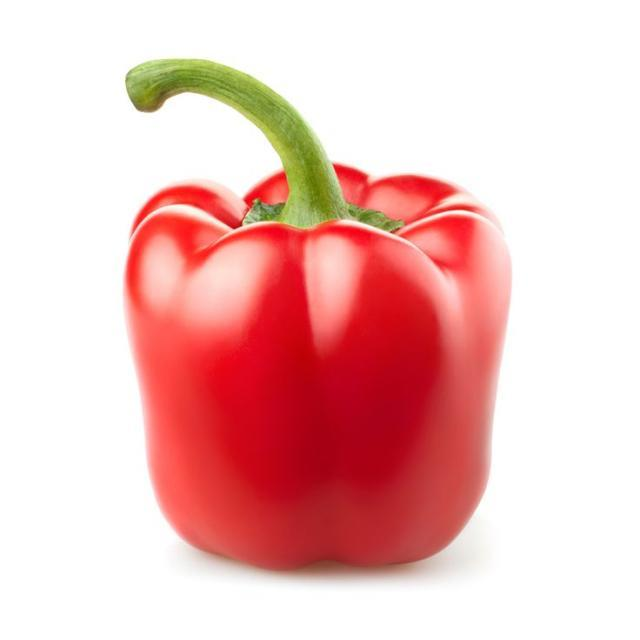bell_pepper: (125, 57, 519, 575)
